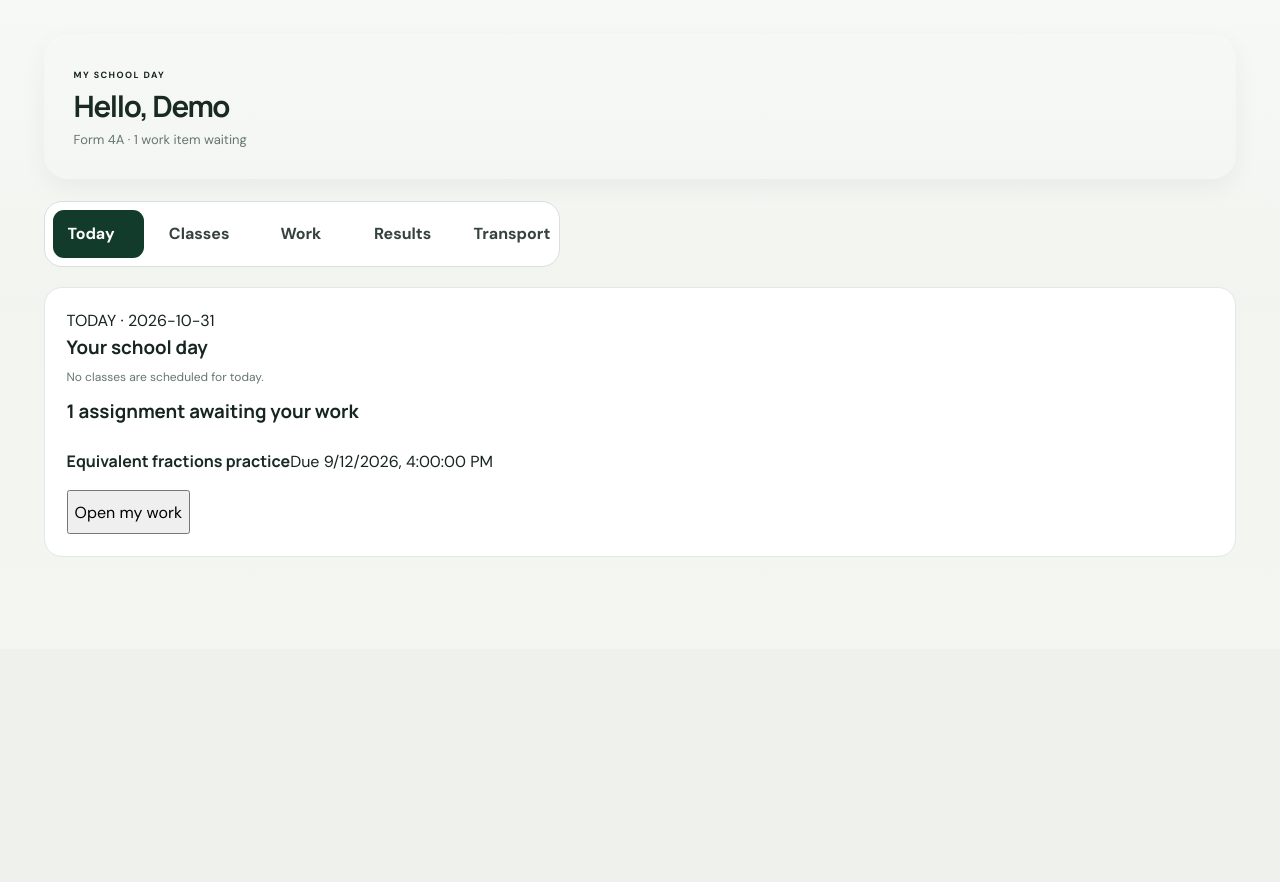
Test case: validates work and distinguishes a successful save from a failed refresh
The width and height of the screenshot is (1280, 882).
Click the button "Work" at (301,234), box [254,210,348,258]
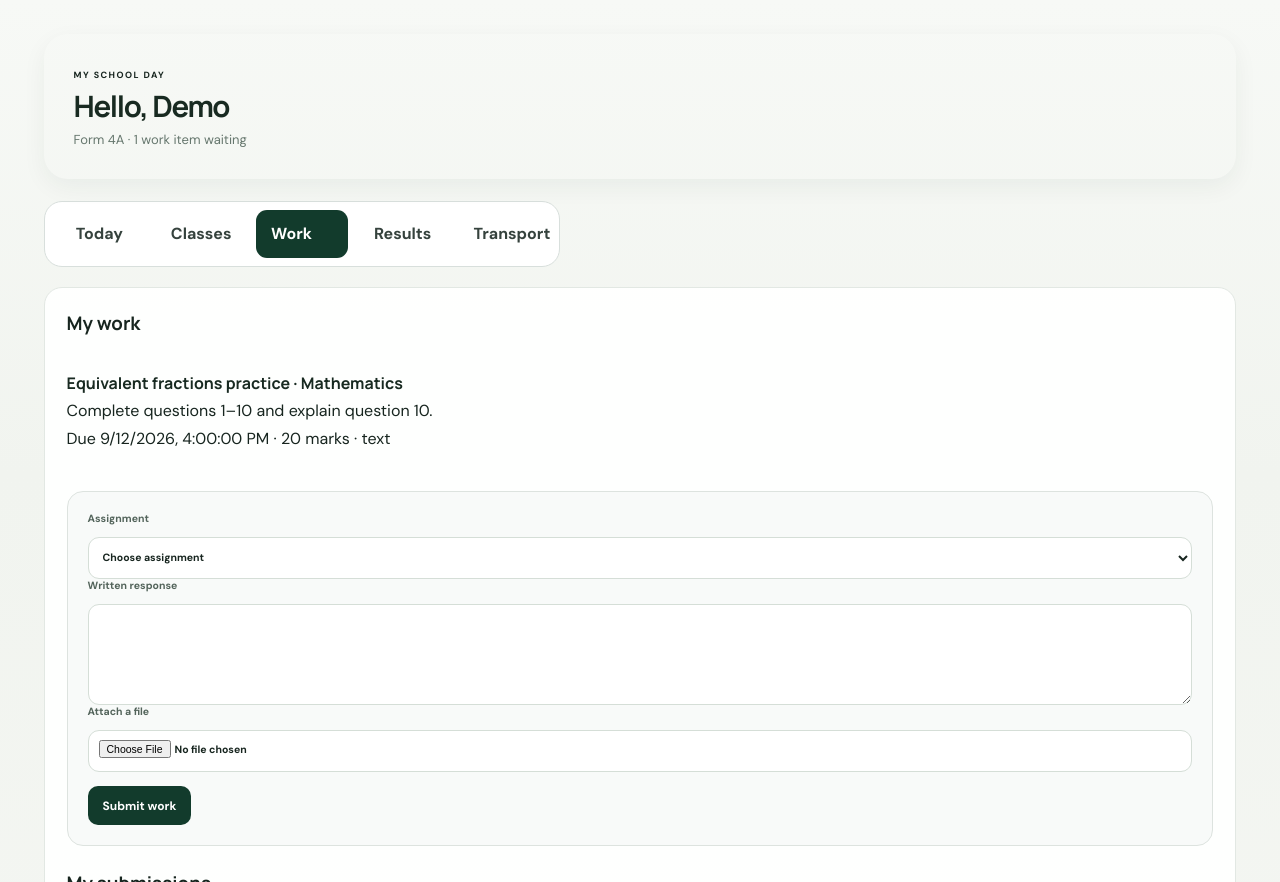
Select "Equivalent fractions practice" in the dropdown labelled "Assignment" at (640,558), box [88,537,1192,579]
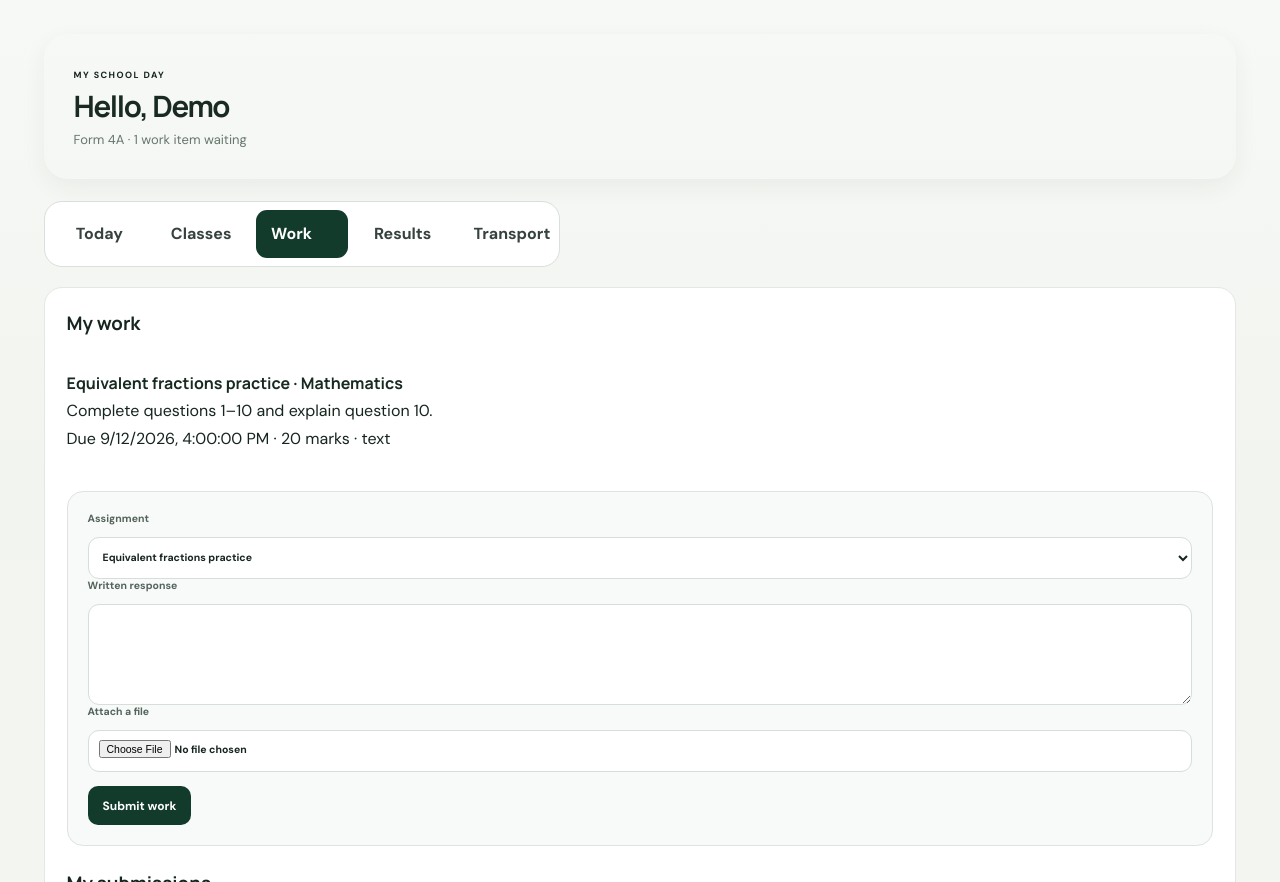
Click the button "Submit work" at (139,806), box [88,786,191,825]
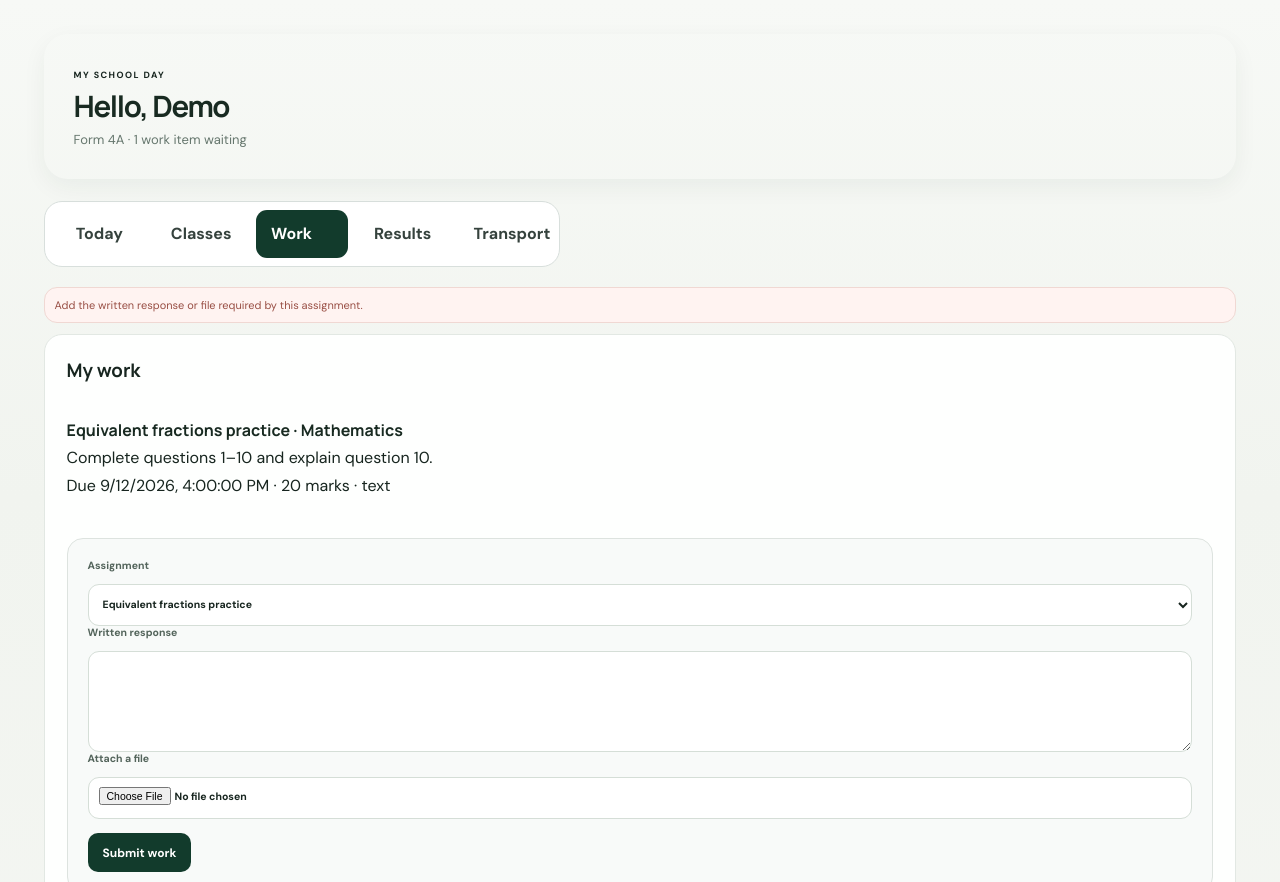
Type "My answer" into the text box labelled "Written response" at (640,701), box [88,651,1192,752]
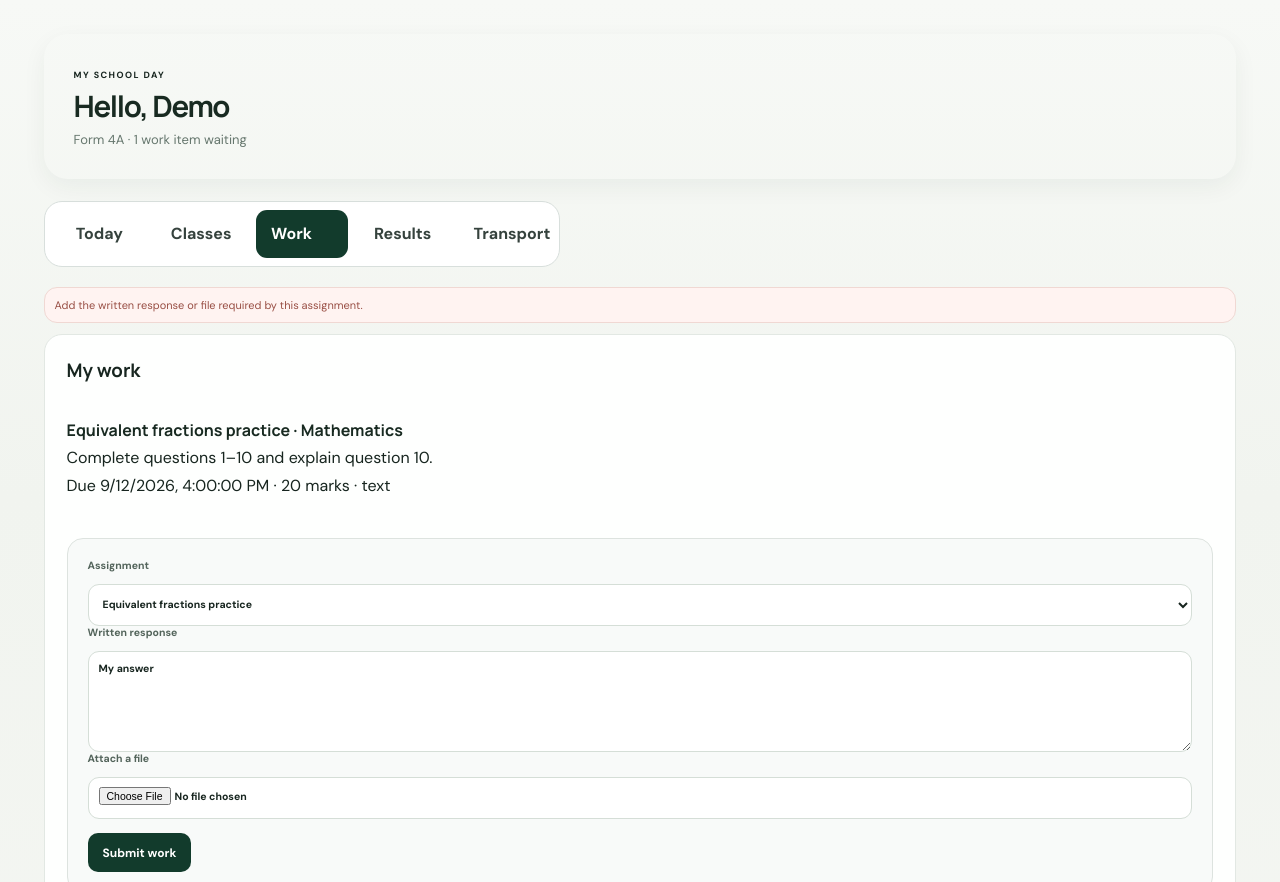
Click the button "Submit work" at (139,853), box [88,833,191,872]
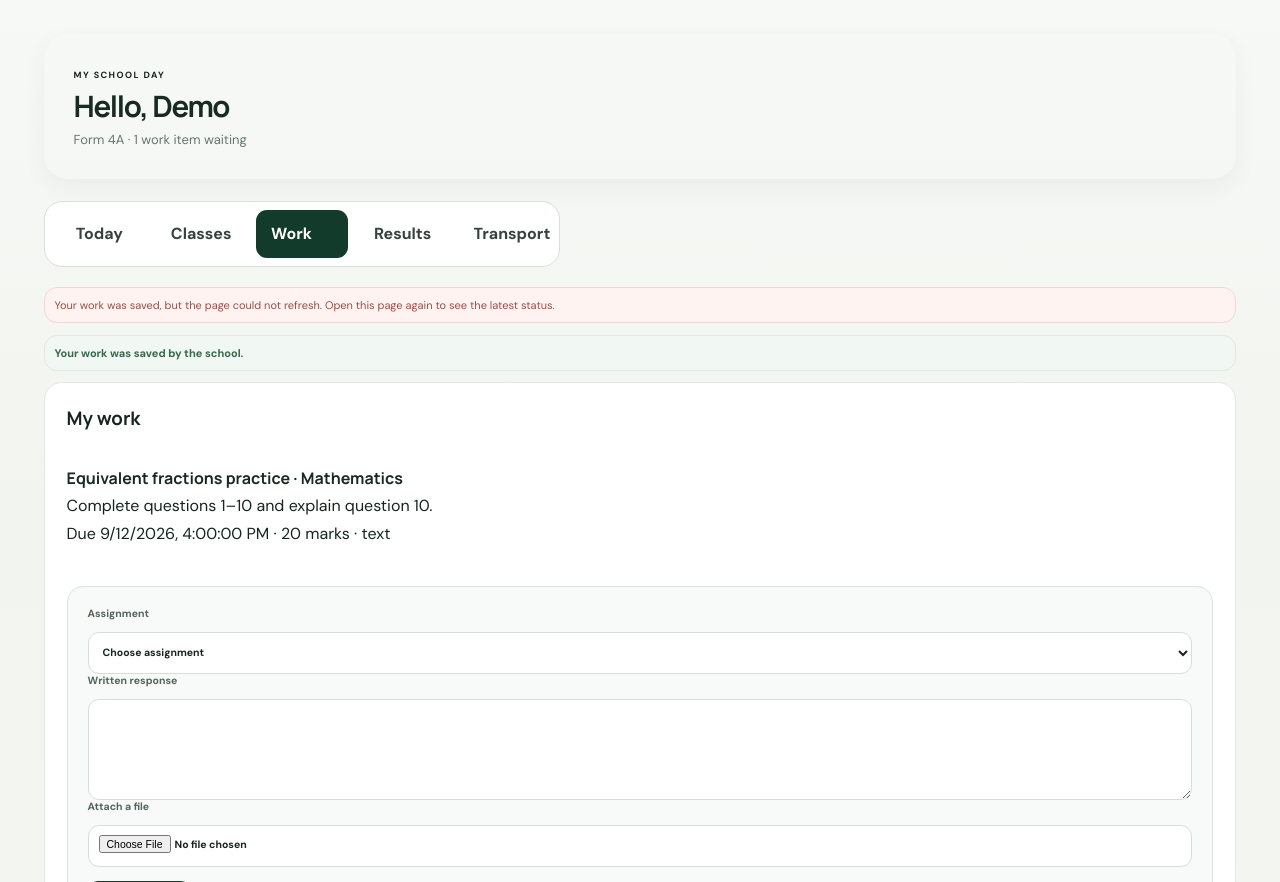
Expected: the text "Your work was saved, but the page could not refresh" is shown, [54,298,555,312]
Expected: the message "Your work was saved by the school." is shown, [44,334,1236,370]
